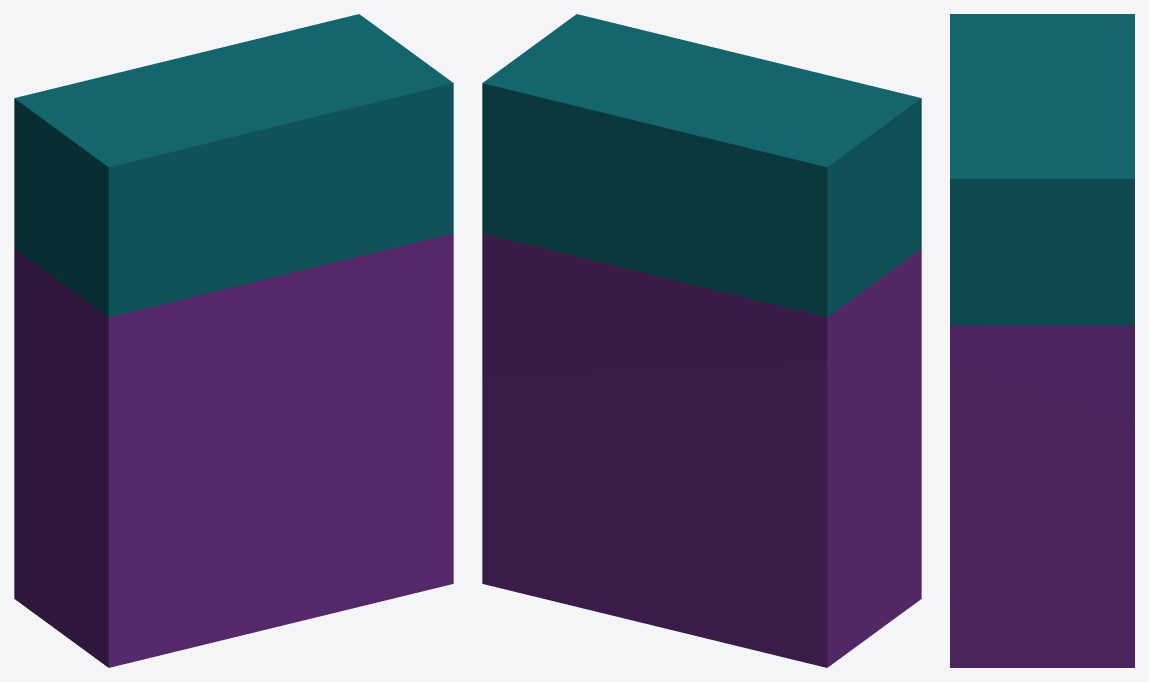
The model's file is ürün90.fbx.
3 views of the same model, side by side, from view 1: azimuth 30°, elevation 25°; view 2: azimuth 150°, elevation 25°; view 3: azimuth 270°, elevation 25° (orthographic). The views are drawn at different scales.
Visible parts, largest first — view 1: Ürün91; view 2: Ürün91; view 3: Ürün91.
Boxes of the visible parts, x1,y1,x2,y2 form: Ürün91: [14, 14, 453, 667]; Ürün91: [482, 14, 921, 667]; Ürün91: [950, 14, 1134, 667].
Size of the model in its own units: 23.51 by 32.6 by 11.16.
